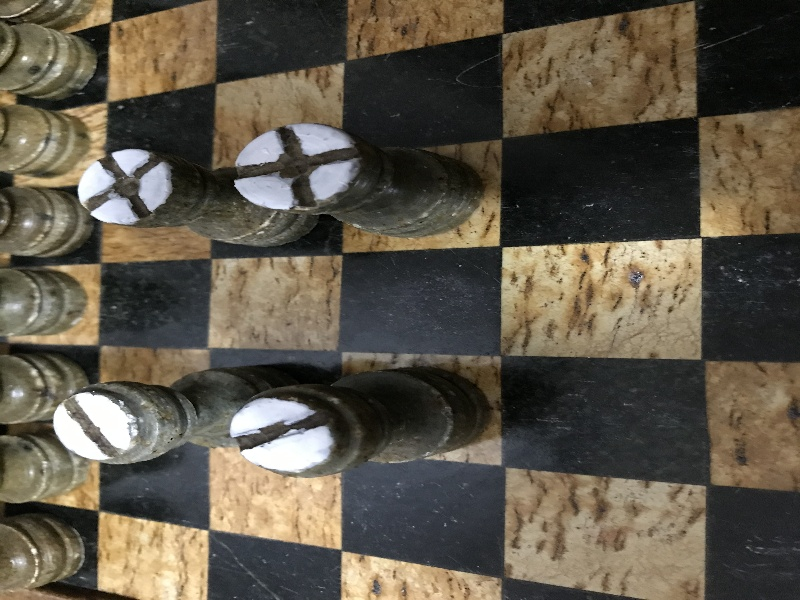WhiteBishop: (231, 124, 483, 237), (78, 149, 315, 249)
WhiteRook: (231, 368, 489, 478), (53, 367, 267, 465)
